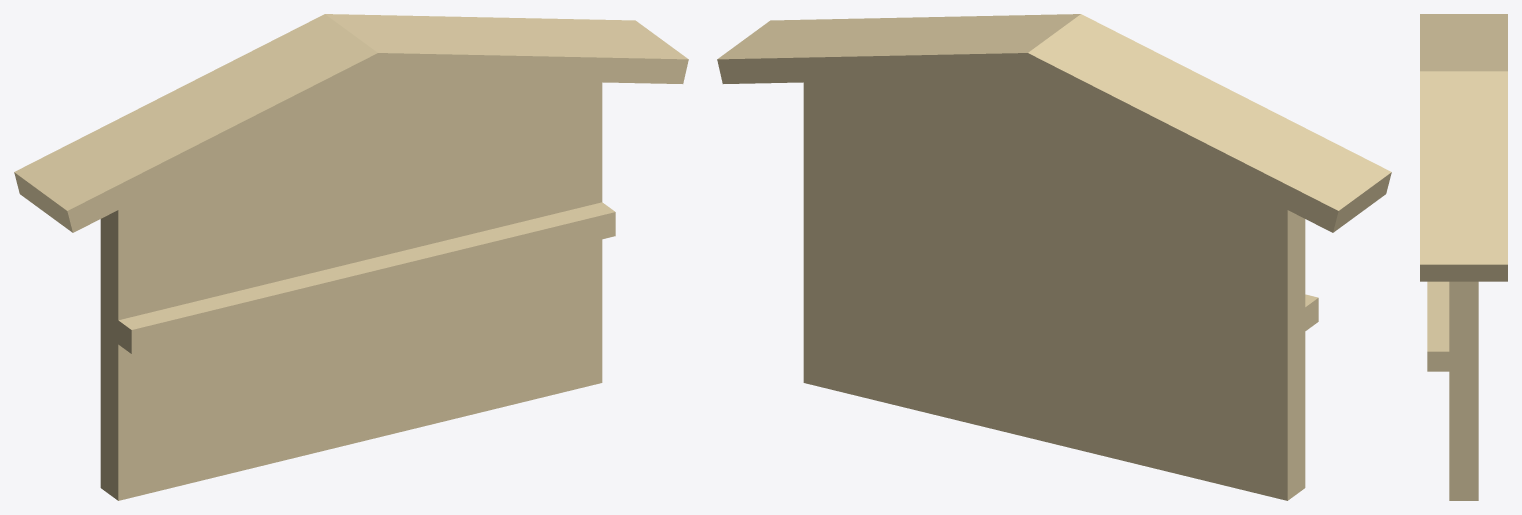
The picture shows the model from 3 angles, left to right: view 1: azimuth 30°, elevation 25°; view 2: azimuth 150°, elevation 25°; view 3: azimuth 270°, elevation 25°; orthographic projection. The views are drawn at different scales.
Parts seen in each view (by area): view 1: ソリッド1; view 2: ソリッド1; view 3: ソリッド1.
Part boxes in pixels (bbox=[...]): ソリッド1: bbox=[14, 14, 688, 500]; ソリッド1: bbox=[717, 14, 1391, 500]; ソリッド1: bbox=[1420, 14, 1507, 500].
Size of the model in its own units: 40.45 by 25 by 6.
